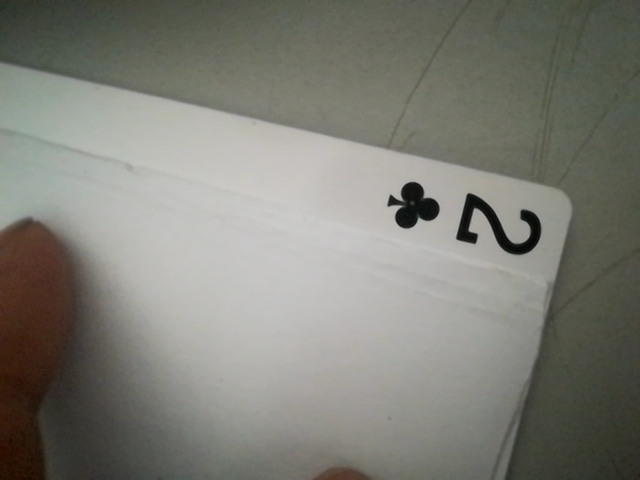mh 2: (377, 171, 553, 266)
